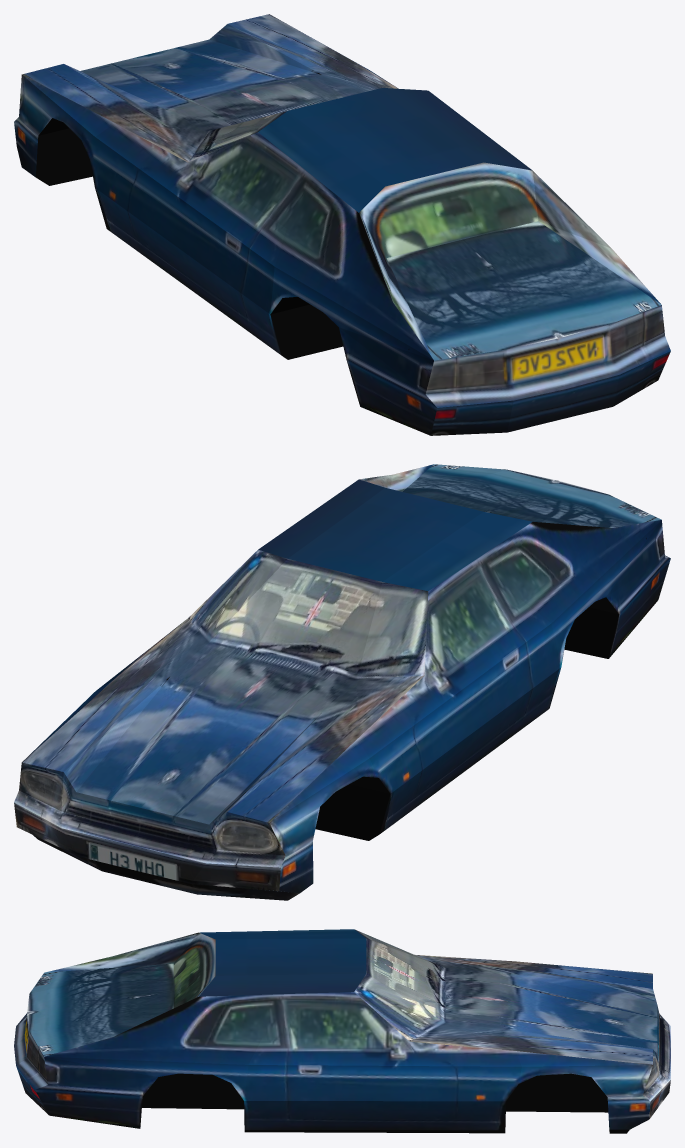
The model's file is xjs.gltf.
3 views of the same model, one above another, from view 1: azimuth 30°, elevation 25°; view 2: azimuth 150°, elevation 25°; view 3: azimuth 270°, elevation 25° (orthographic). The views are drawn at different scales.
Parts seen in each view (by area): view 1: Cube; view 2: Cube; view 3: Cube.
Boxes of the visible parts, x1,y1,x2,y2 form: Cube: (14, 14, 670, 435); Cube: (14, 464, 670, 900); Cube: (14, 929, 670, 1133).
Size of the model in its own units: 1.93 by 1.1 by 4.91.
1 material, 1 textured.
